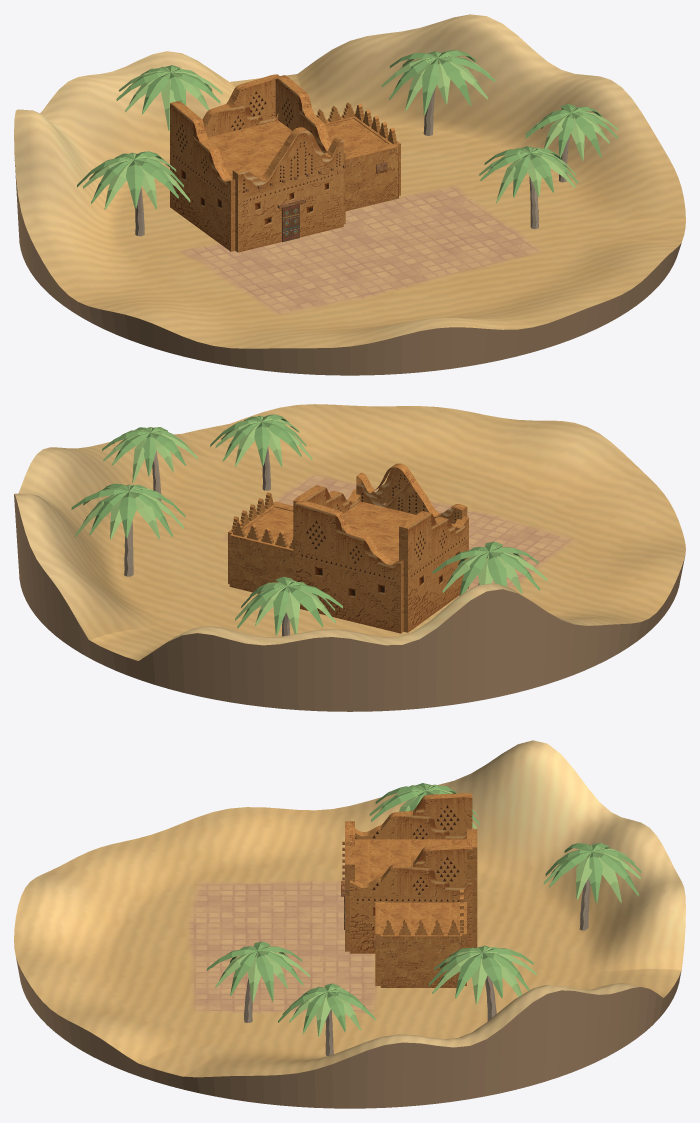
The picture shows the model from 3 angles, top to bottom: view 1: azimuth 30°, elevation 25°; view 2: azimuth 150°, elevation 25°; view 3: azimuth 270°, elevation 25°; orthographic projection.
Visible parts, largest first — view 1: Ground, Plinth, FacadeGable.001, FacadeSteps.001, Wall.001, FacadeSteps.003, HouseRoof, FacadeSteps.002, AnnexRoof, HouseDoor, frond.055; view 2: Ground, Plinth, FacadeSteps.003, FacadeSteps.001, Wall.002, FacadeGable.001, HouseRoof, FacadeSteps.002, AnnexRoof, frond.051; view 3: Ground, Plinth, FacadeSteps.002, Wall.003, FacadeSteps.001, HouseRoof, AnnexRoof, FacadeSteps.003, FacadeGable.001, Wall.001.
Part boxes in pixels (<box>): Ground: <box>14,14,685,348</box>; Plinth: <box>14,160,681,375</box>; FacadeGable.001: <box>232,127,343,252</box>; FacadeSteps.001: <box>170,101,238,251</box>; Wall.001: <box>345,144,398,211</box>; FacadeSteps.003: <box>196,74,279,138</box>; HouseRoof: <box>208,120,294,181</box>; FacadeSteps.002: <box>275,75,345,223</box>; AnnexRoof: <box>325,119,388,154</box>; HouseDoor: <box>282,204,299,242</box>; frond.055: <box>422,58,439,115</box>; Ground: <box>14,404,685,660</box>; Plinth: <box>14,494,684,711</box>; FacadeSteps.003: <box>295,500,403,633</box>; FacadeSteps.001: <box>399,511,468,632</box>; Wall.002: <box>229,533,293,593</box>; FacadeGable.001: <box>356,463,467,529</box>; HouseRoof: <box>341,501,453,566</box>; FacadeSteps.002: <box>293,485,360,580</box>; AnnexRoof: <box>244,507,293,544</box>; frond.051: <box>119,492,136,538</box>; Ground: <box>14,740,685,1077</box>; Plinth: <box>16,958,681,1108</box>; FacadeSteps.002: <box>350,844,472,953</box>; Wall.003: <box>380,932,461,987</box>; FacadeSteps.001: <box>355,793,472,839</box>; HouseRoof: <box>355,839,466,887</box>; AnnexRoof: <box>385,902,456,932</box>; FacadeSteps.003: <box>467,829,477,947</box>; FacadeGable.001: <box>345,821,354,951</box>; Wall.001: <box>375,902,385,985</box>.
Size of the model in its own units: 33 by 6.41 by 33.
Materials: 16 (11 with a texture image).
